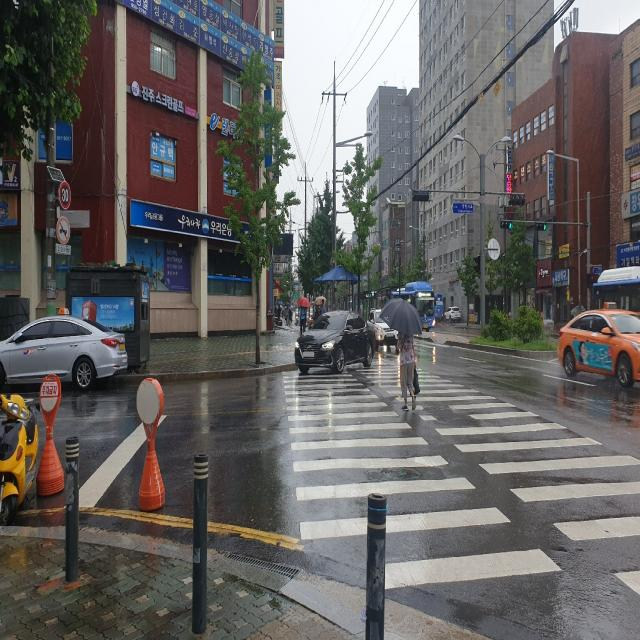횡단보도: (279, 363, 640, 602)
